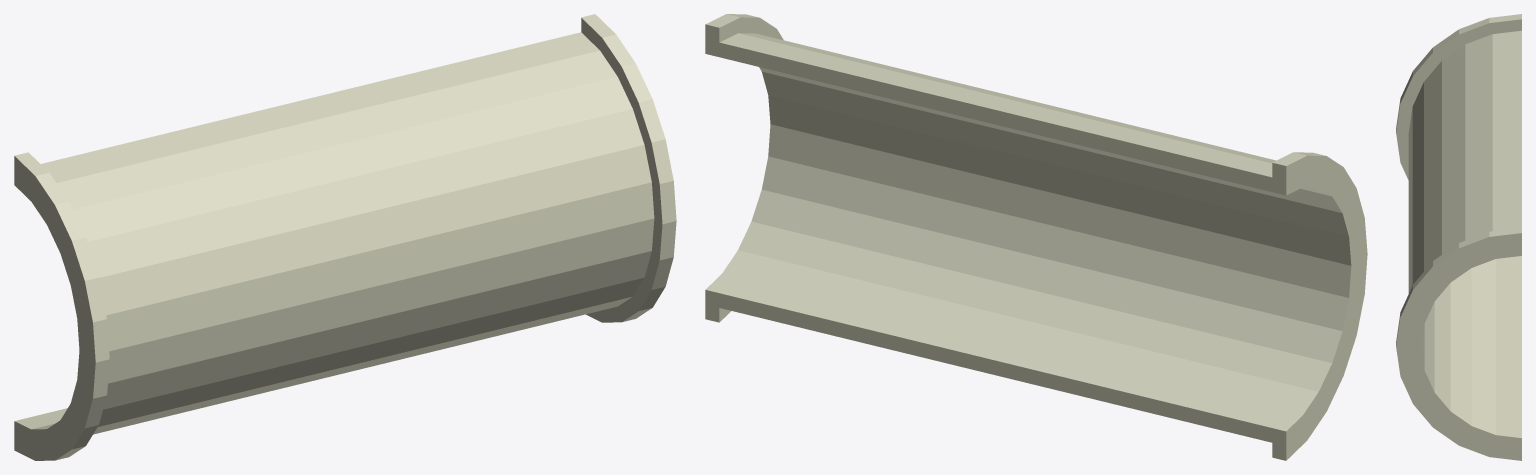
File: section_213.obj
3 views of the same model, side by side, from view 1: azimuth 30°, elevation 25°; view 2: azimuth 150°, elevation 25°; view 3: azimuth 270°, elevation 25° (orthographic). The views are drawn at different scales.
Size of the model in its own units: 41.23 by 20 by 10.
